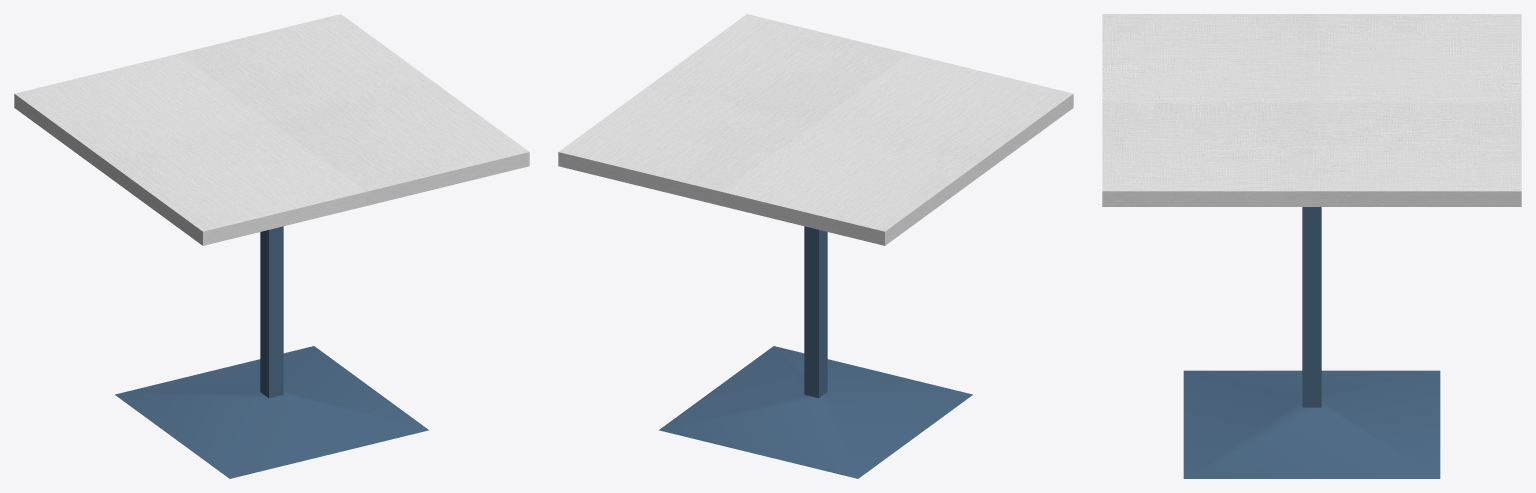
Rendered from cafe_table.dae.
3 renders of one model, left to right at view 1: azimuth 30°, elevation 25°; view 2: azimuth 150°, elevation 25°; view 3: azimuth 270°, elevation 25°, orthographic. The views are drawn at different scales.
Parts seen in each view (by area): view 1: Top_Square (×2), SketchUp; view 2: Top_Square (×2), SketchUp; view 3: Top_Square (×2), SketchUp.
Part boxes in pixels (x1=…): Top_Square (×2): x1=14, y1=14, x2=529, y2=245; SketchUp: x1=115, y1=226, x2=428, y2=478; Top_Square (×2): x1=558, y1=14, x2=1073, y2=245; SketchUp: x1=659, y1=226, x2=972, y2=478; Top_Square (×2): x1=1102, y1=14, x2=1521, y2=206; SketchUp: x1=1183, y1=207, x2=1440, y2=478.
Bounding box in the file's own units: 36 × 36 × 30.5.
